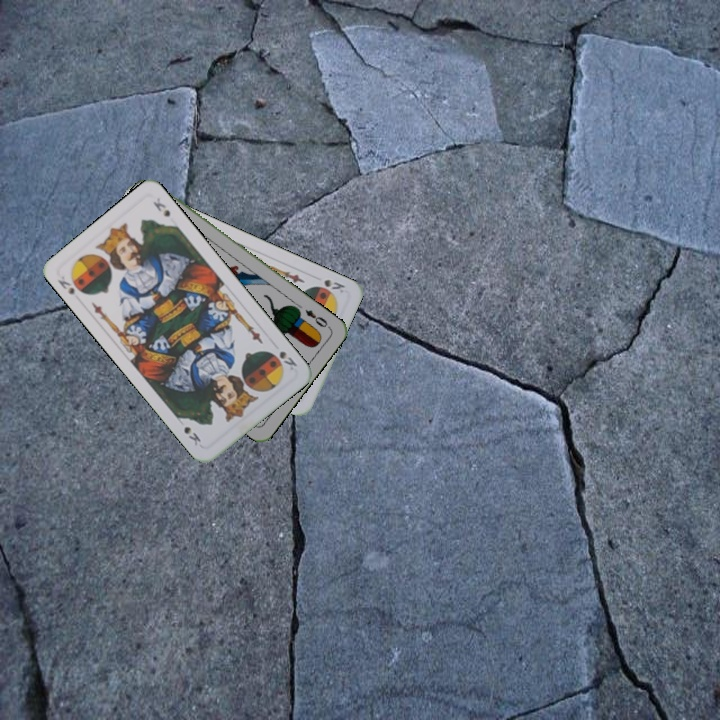EO: (301, 305, 330, 330)
SK: (54, 271, 88, 297), (275, 347, 300, 373), (320, 275, 348, 296)
